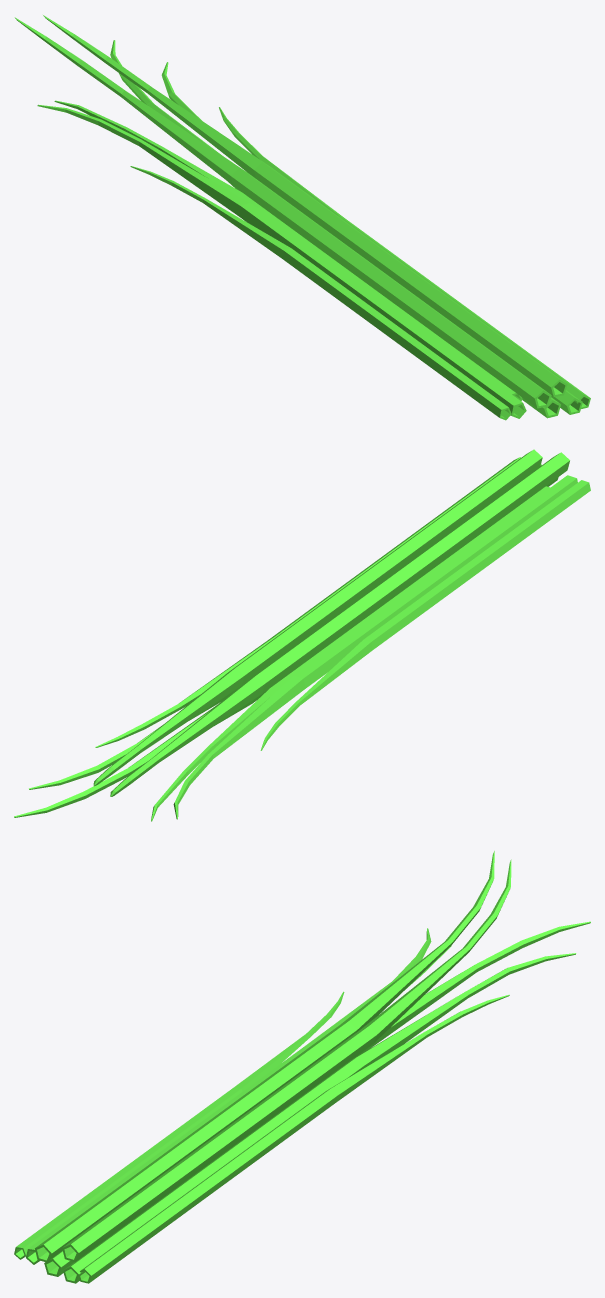
File: chives03.gltf
The picture shows the model from 3 angles, top to bottom: view 1: azimuth 30°, elevation 25°; view 2: azimuth 150°, elevation 25°; view 3: azimuth 330°, elevation 25°; orthographic projection.
Visible parts, largest first — view 1: Cylinder.002; view 2: Cylinder.002; view 3: Cylinder.002.
Boxes of the visible parts, <box> form: Cylinder.002: <box>14,15,590,420</box>; Cylinder.002: <box>14,449,590,821</box>; Cylinder.002: <box>14,851,590,1283</box>.
Bounding box in the file's own units: 0.0467 × 0.0182 × 0.2847.
1 material, 1 textured.
